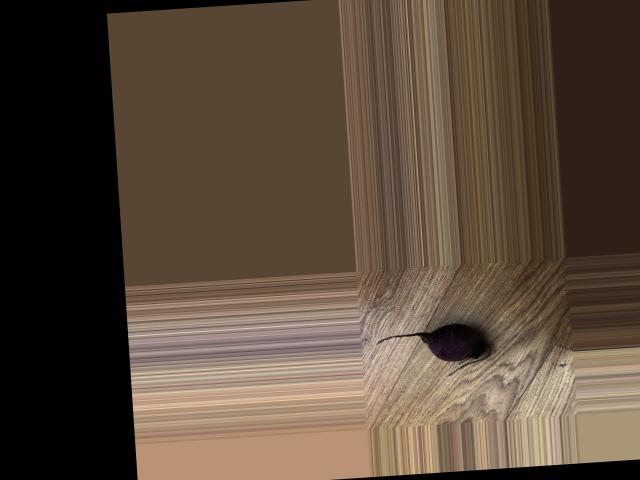beet: (374, 320, 491, 379)
